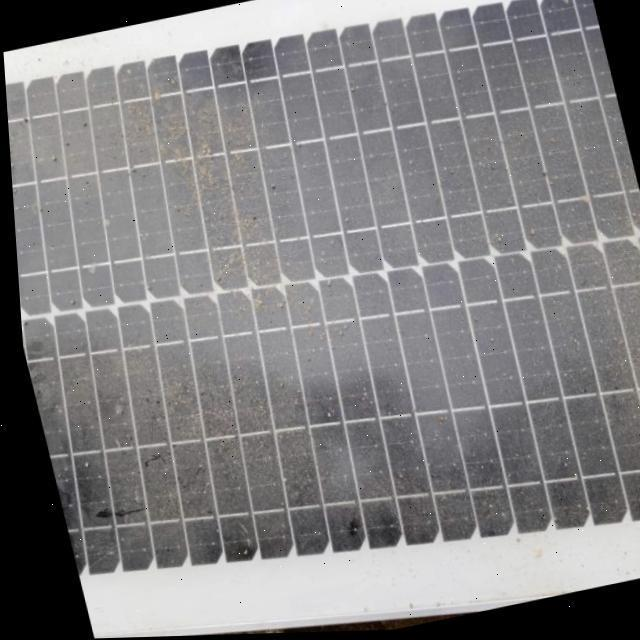Anomaly Solar Panel: (0, 0, 640, 640)
Surface Contaminant: (8, 43, 606, 570)
